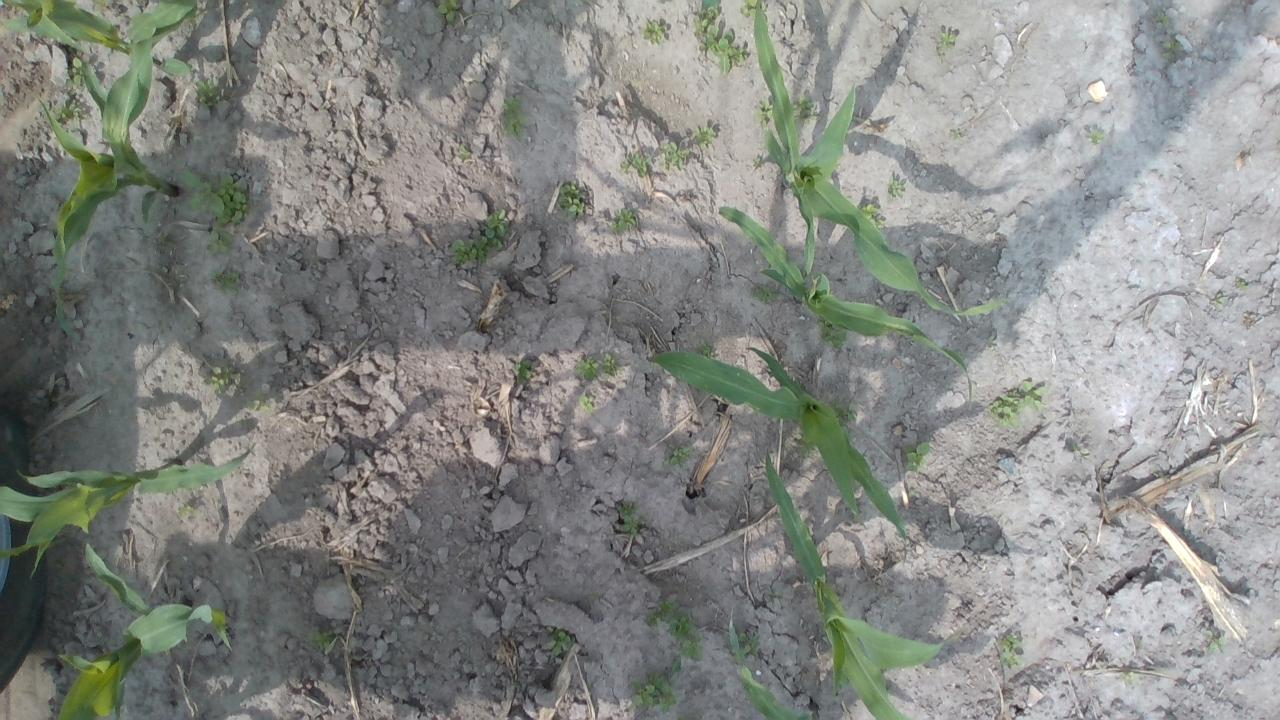Maize: (754, 0, 1006, 321), (646, 342, 912, 540), (719, 204, 973, 397), (38, 0, 178, 349), (764, 448, 942, 720), (0, 446, 252, 578), (52, 540, 230, 720), (2, 0, 196, 81), (726, 609, 806, 720)
Weeds: (644, 598, 706, 660), (629, 670, 680, 713), (701, 30, 748, 75), (182, 170, 226, 214), (214, 173, 248, 224), (988, 390, 1020, 428), (816, 314, 847, 353), (500, 94, 528, 137), (482, 206, 509, 249), (451, 237, 490, 266), (692, 0, 722, 35), (558, 182, 585, 219), (207, 270, 242, 297), (659, 142, 690, 172), (998, 634, 1025, 668), (206, 364, 234, 396), (1021, 379, 1048, 412), (616, 502, 641, 537), (858, 203, 888, 231), (828, 399, 858, 426), (904, 441, 930, 472), (195, 78, 223, 106), (793, 96, 824, 121), (662, 442, 694, 466), (67, 56, 91, 86), (640, 19, 666, 46), (736, 630, 762, 657), (550, 628, 574, 657), (575, 354, 599, 382), (611, 208, 637, 233), (794, 431, 818, 458), (206, 229, 234, 252), (436, 0, 461, 25), (54, 100, 82, 122), (750, 284, 779, 304), (628, 154, 652, 178), (599, 351, 619, 379), (308, 628, 336, 648), (514, 358, 534, 384), (694, 126, 716, 148), (1205, 628, 1226, 651), (250, 393, 271, 413), (936, 30, 957, 49), (888, 176, 904, 200), (578, 391, 594, 413), (756, 99, 772, 121), (174, 503, 194, 520), (155, 229, 171, 248), (741, 0, 758, 16), (1162, 38, 1180, 52), (1090, 127, 1104, 145), (700, 344, 714, 360), (1072, 442, 1090, 454), (460, 143, 470, 159), (1214, 293, 1226, 306), (45, 102, 55, 115), (1236, 278, 1247, 289), (671, 660, 681, 672), (94, 0, 108, 8), (1124, 670, 1134, 680), (620, 161, 629, 172), (1160, 15, 1171, 24), (909, 488, 919, 497), (751, 158, 760, 168), (951, 130, 960, 140)
